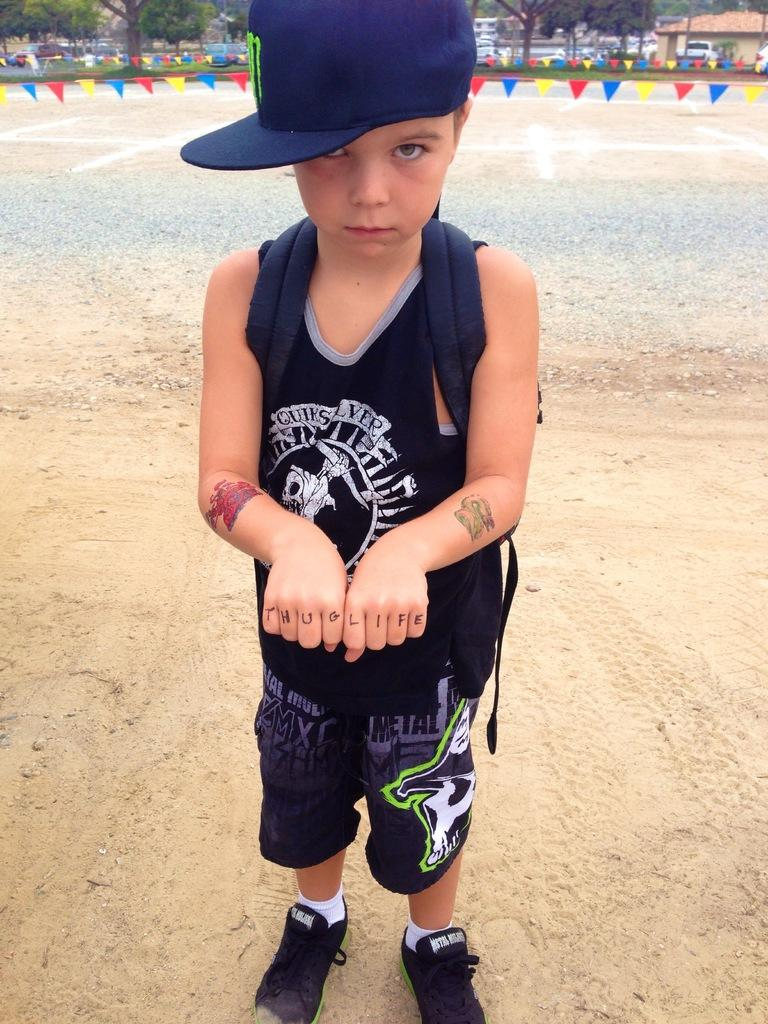Hat: (180, 0, 476, 172)
